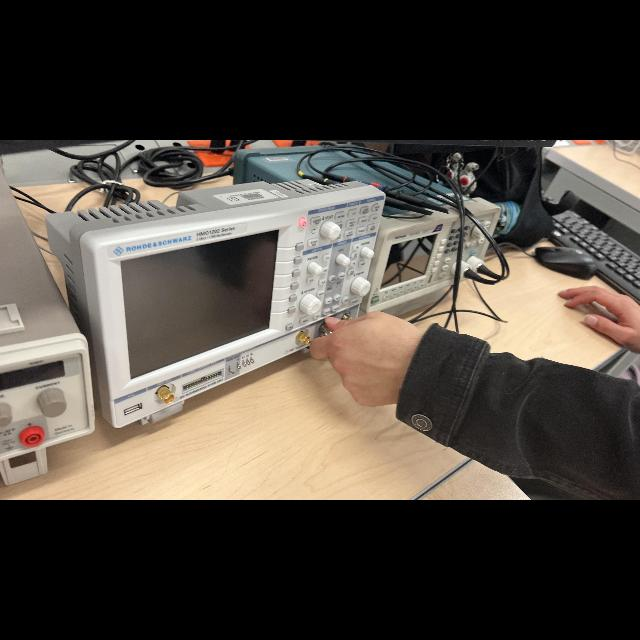Digital-Oscilloscope: (46, 180, 385, 427)
